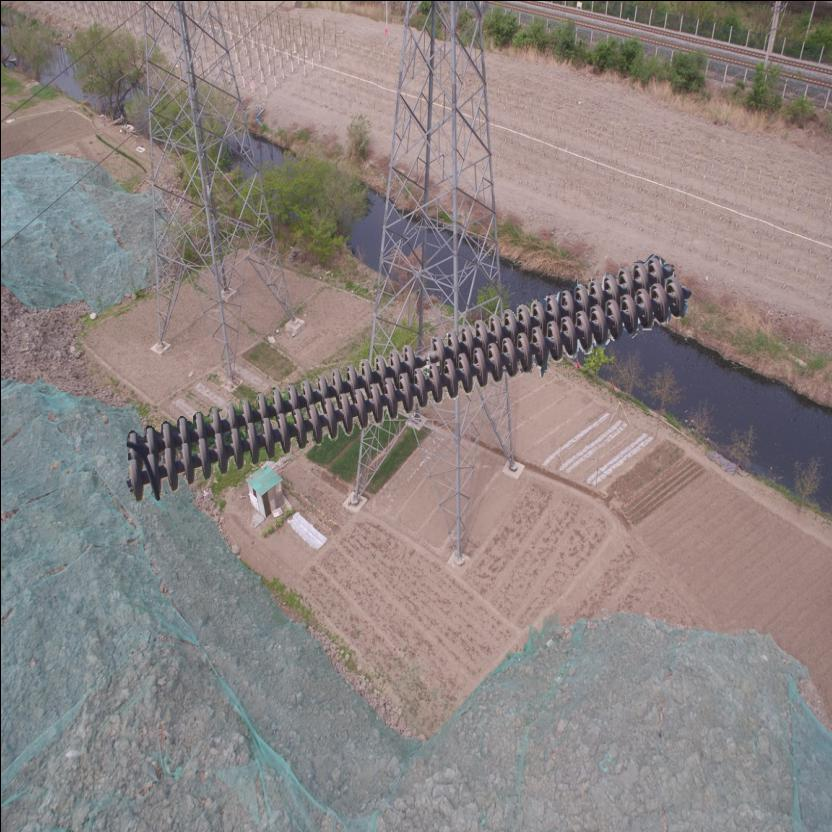defect: (400, 331, 452, 371)
